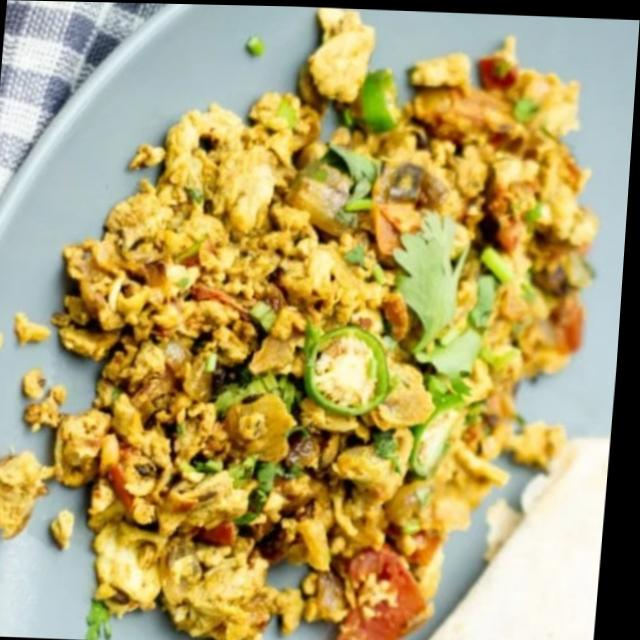EGG: (52, 14, 584, 632)
